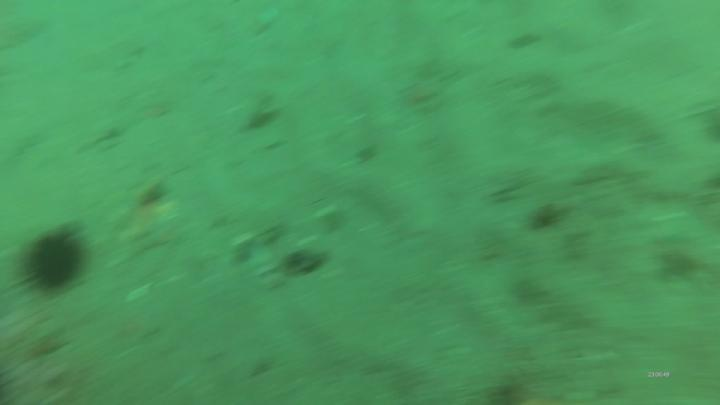echinus: (23, 227, 89, 290)
